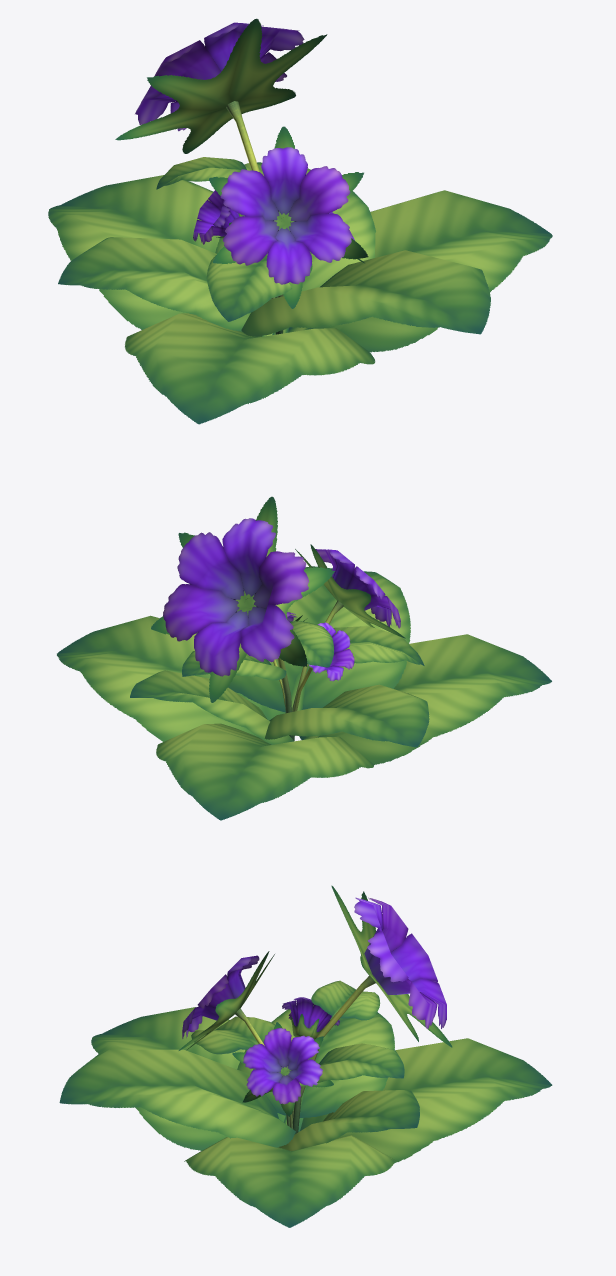
File: ENV1110006.FBX
3 renders of one model, top to bottom at view 1: azimuth 30°, elevation 25°; view 2: azimuth 150°, elevation 25°; view 3: azimuth 270°, elevation 25°, orthographic. The views are drawn at different scales.
Parts seen in each view (by area): view 1: smENV1110006; view 2: smENV1110006; view 3: smENV1110006.
Part boxes in pixels (<box>): smENV1110006: <box>48,18,552,424</box>; smENV1110006: <box>57,496,551,820</box>; smENV1110006: <box>59,885,552,1227</box>.
Bounding box in the file's own units: 34.76 × 20.5 × 37.06.
Materials: 1 (1 with a texture image).
